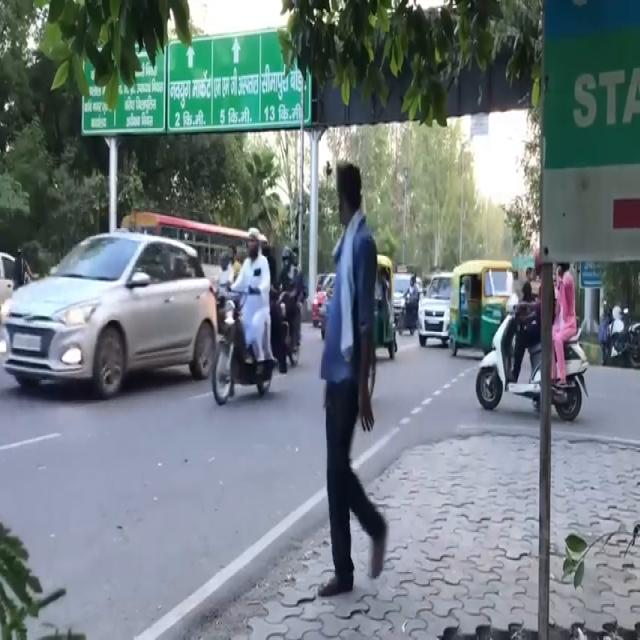MOTORCYCLE: (474, 294, 588, 416), (204, 287, 274, 403)
SED: (3, 237, 219, 403)
